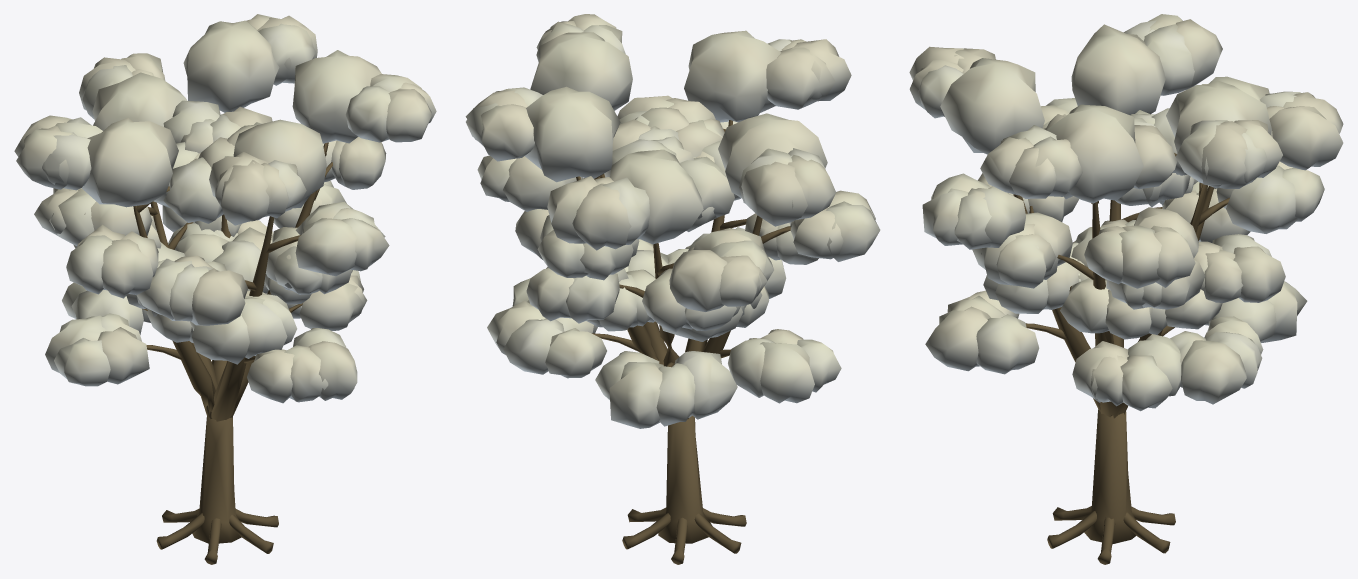
The picture shows the model from 3 angles, left to right: view 1: azimuth 30°, elevation 25°; view 2: azimuth 150°, elevation 25°; view 3: azimuth 270°, elevation 25°; orthographic projection. The views are drawn at different scales.
Parts seen in each view (by area): view 1: crown, trunk; view 2: crown, trunk; view 3: crown, trunk.
Part boxes in pixels (x1=…): crown: x1=14, y1=14, x2=436, y2=403; trunk: x1=133, y1=142, x2=332, y2=564; crown: x1=465, y1=14, x2=880, y2=428; trunk: x1=576, y1=120, x2=790, y2=564; crown: x1=909, y1=14, x2=1343, y2=411; trunk: x1=1013, y1=153, x2=1229, y2=564.
Bounding box in the file's own units: 11.31 × 14.22 × 11.54.
